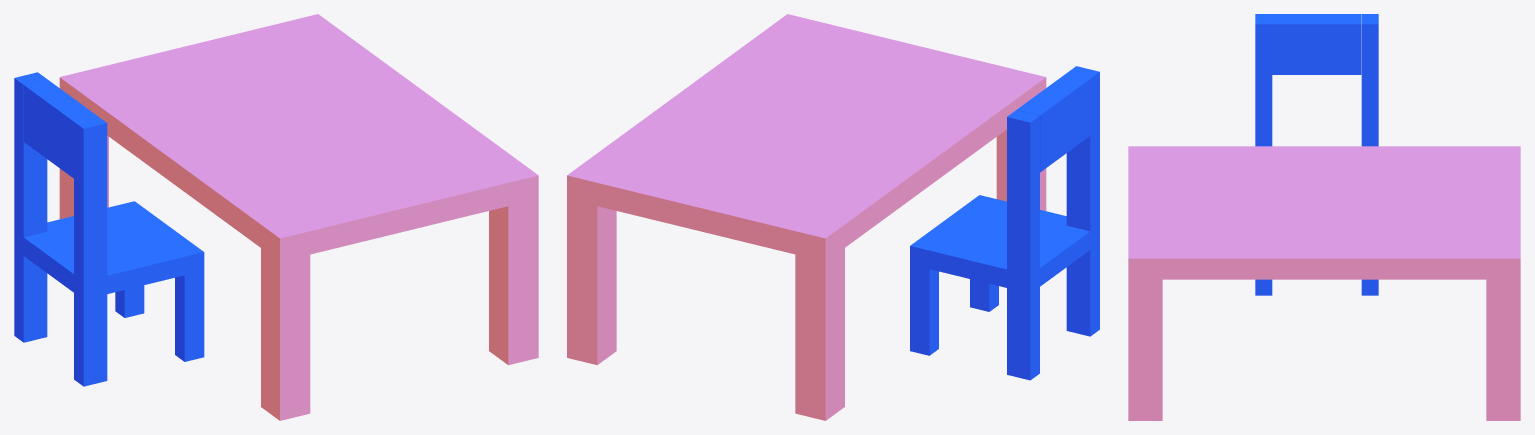
Rendered from tes.glb.
The picture shows the model from 3 angles, left to right: view 1: azimuth 30°, elevation 25°; view 2: azimuth 150°, elevation 25°; view 3: azimuth 270°, elevation 25°; orthographic projection. The views are drawn at different scales.
Visible parts, largest first — view 1: Cube.001, Cube; view 2: Cube.001, Cube; view 3: Cube.001, Cube.
Part boxes in pixels (x1=…): Cube.001: x1=59, y1=14, x2=538, y2=420; Cube: x1=14, y1=72, x2=204, y2=386; Cube.001: x1=567, y1=14, x2=1046, y2=420; Cube: x1=910, y1=66, x2=1099, y2=380; Cube.001: x1=1128, y1=146, x2=1520, y2=420; Cube: x1=1255, y1=14, x2=1378, y2=295.
Bounding box in the file's own units: 6.37 × 4.29 × 6.35.
